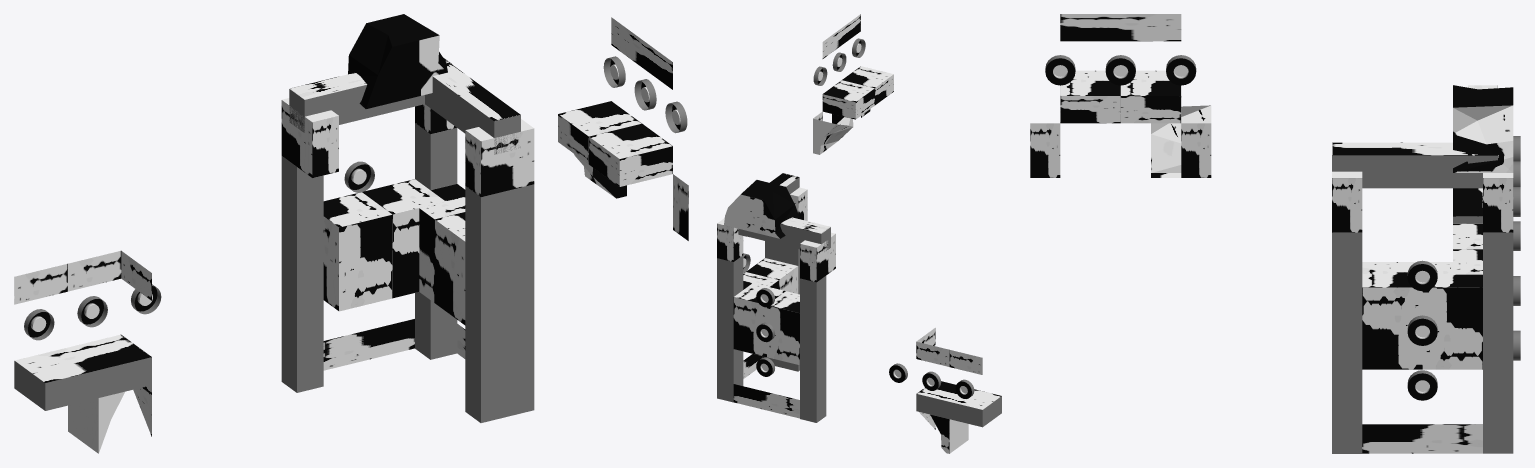
File: ----DRAGGERS----.fbx
The picture shows the model from 3 angles, left to right: view 1: azimuth 30°, elevation 25°; view 2: azimuth 150°, elevation 25°; view 3: azimuth 270°, elevation 25°; orthographic projection. The views are drawn at different scales.
Visible parts, largest first — view 1: Whitebox_cube (×3), Whitebox_cube (5) (×3), Whitebox_cube (4) (×2), Whitebox_cube (3), Chipped_SplitCube_A, Whitebox_cube (2), HalfCube, Whitebox_cube (7), Whitebox_cube (1), HalfCube (2), Whitebox_Quad (2) (×2), Whitebox_cube (6) (+8 smaller); view 2: Whitebox_cube (5) (×3), Whitebox_cube (3), Whitebox_cube (×3), Whitebox_cube (2), Whitebox_cube (4) (×3), Chipped_SplitCube_A, Whitebox_cube (6), Whitebox_cube (1), HalfCube (2), Chipped_SplitCube_F, Chipped_SplitCube_E, Whitebox_cube (7) (+9 smaller); view 3: Whitebox_cube (×3), Whitebox_cube (4) (×3), Whitebox_cube (2), Whitebox_cube (5) (×2), Chipped_SplitCube_E, Whitebox_Quad (2), Whitebox_cube (6), Whitebox_cube (7), Chipped_SplitCube_F, HalfCube, HalfCube (1), Whitebox_Quad (+6 smaller).
Boxes of the visible parts, x1,y1,x2,y2 form: Whitebox_cube (×3): (14, 64, 534, 422); Whitebox_cube (5) (×3): (323, 179, 465, 370); Whitebox_cube (4) (×2): (323, 184, 465, 311); Whitebox_cube (3): (281, 156, 323, 392); Chipped_SplitCube_A: (348, 18, 419, 108); Whitebox_cube (2): (415, 123, 457, 359); HalfCube: (465, 119, 534, 197); Whitebox_cube (7): (589, 123, 672, 186); Whitebox_cube (1): (289, 57, 452, 132); HalfCube (2): (281, 98, 338, 177); Whitebox_Quad (2) (×2): (121, 17, 672, 300); Whitebox_cube (6): (558, 101, 641, 164); Whitebox_cube (5) (×3): (733, 258, 799, 418); Whitebox_cube (3): (800, 276, 826, 422); Whitebox_cube (×3): (738, 173, 1001, 427); Whitebox_cube (2): (717, 255, 743, 402); Whitebox_cube (4) (×3): (743, 272, 799, 378); Chipped_SplitCube_A: (750, 183, 799, 238); Whitebox_cube (6): (822, 80, 874, 119); Whitebox_cube (1): (746, 217, 830, 251); HalfCube (2): (800, 232, 835, 282); Chipped_SplitCube_F: (813, 114, 853, 154); Chipped_SplitCube_E: (724, 180, 768, 231); Whitebox_cube (7): (842, 66, 893, 105); Whitebox_cube (×3): (1332, 142, 1498, 453); Whitebox_cube (4) (×3): (1362, 223, 1482, 453); Whitebox_cube (2): (1483, 233, 1513, 453); Whitebox_cube (5) (×2): (1362, 249, 1482, 369); Chipped_SplitCube_E: (1453, 98, 1513, 172); Whitebox_Quad (2): (1060, 14, 1181, 41); Whitebox_cube (6): (1120, 70, 1181, 123); Whitebox_cube (7): (1060, 70, 1120, 123); Chipped_SplitCube_F: (1151, 105, 1211, 177); HalfCube: (1332, 171, 1362, 232); HalfCube (1): (1483, 173, 1513, 232); Whitebox_Quad: (1181, 123, 1211, 177).
Bounding box in the file's own units: 8.13 × 8.04 × 8.13.
